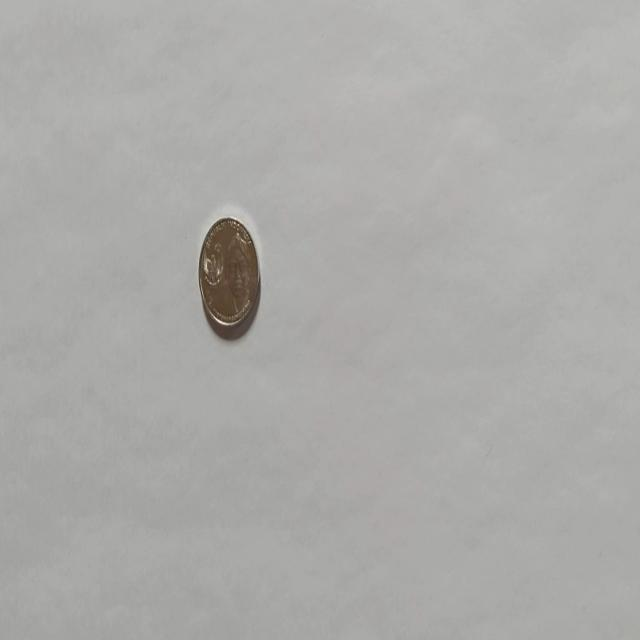dua ratus rupiah: (198, 215, 260, 332)
